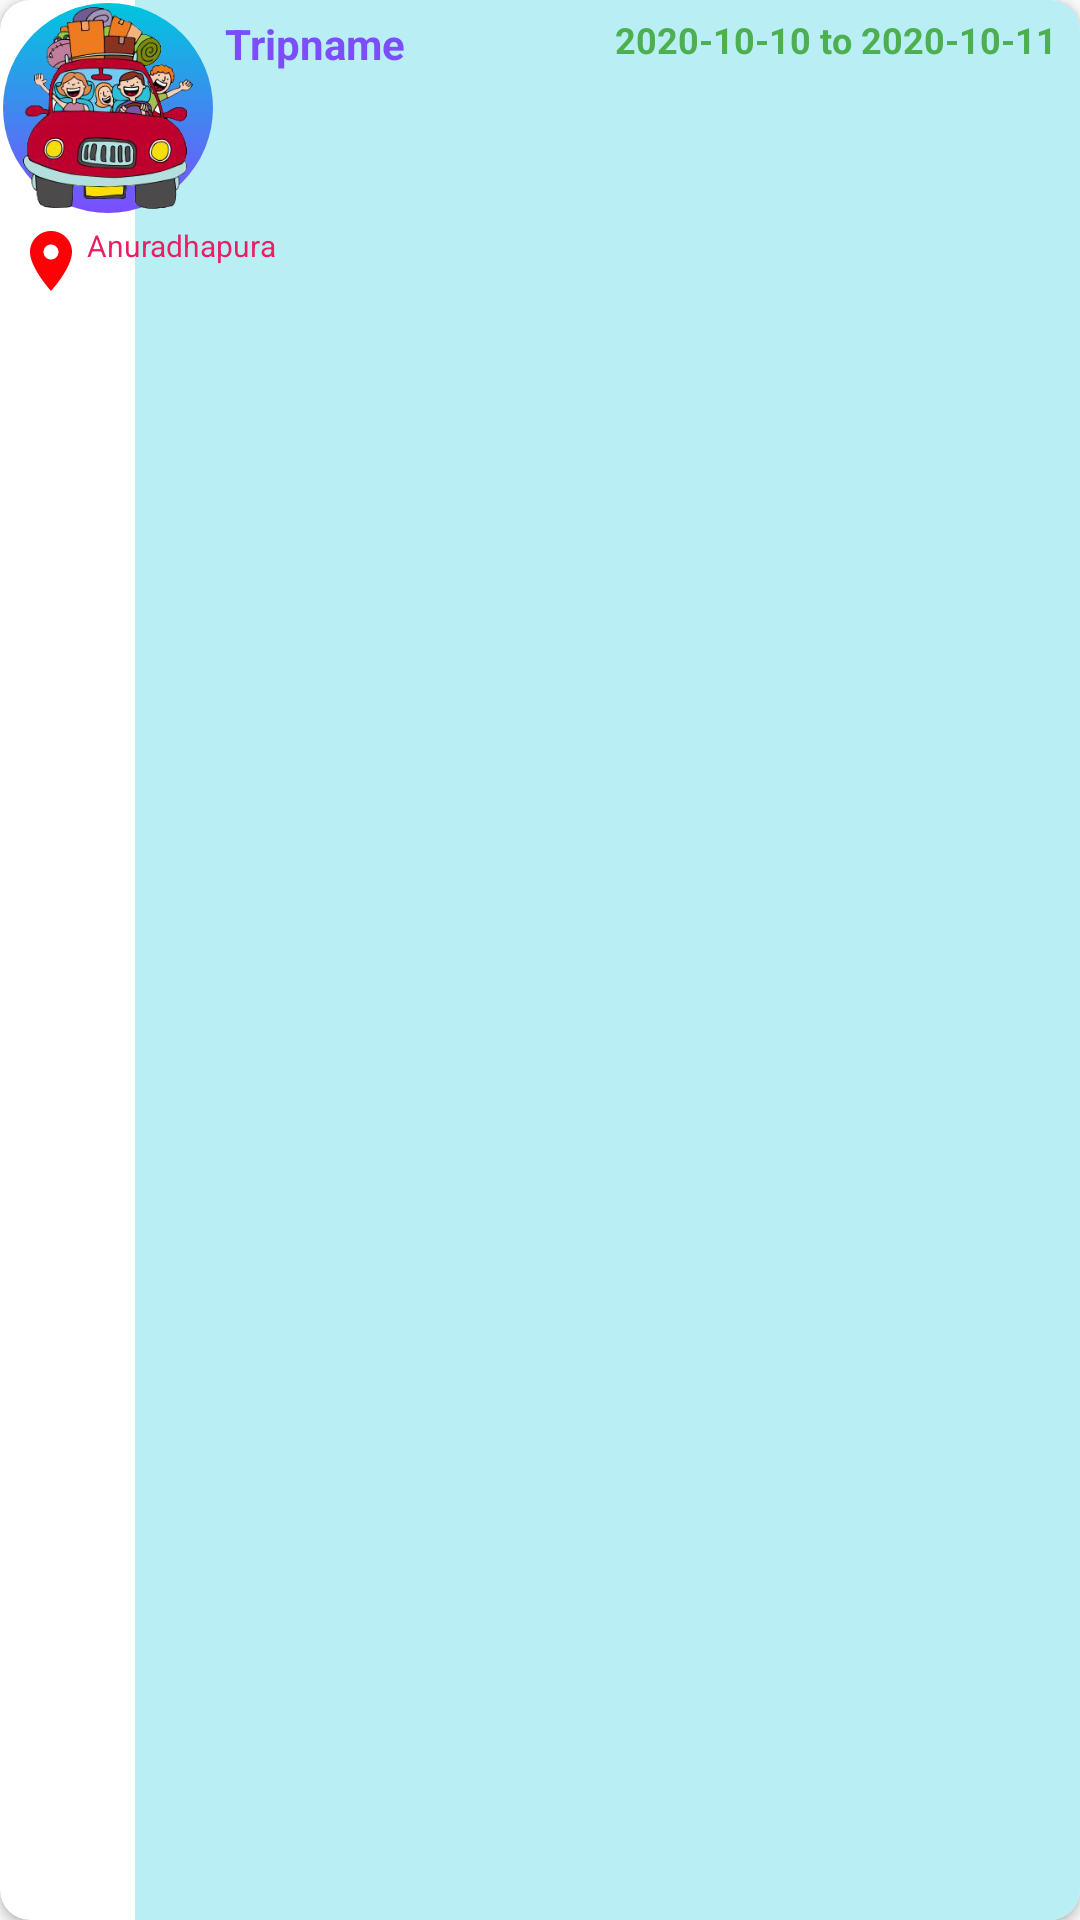

Where to tap for icons on this 1080×1920 app screen, as [x,y]:
triphistoryicon: [108,108]
